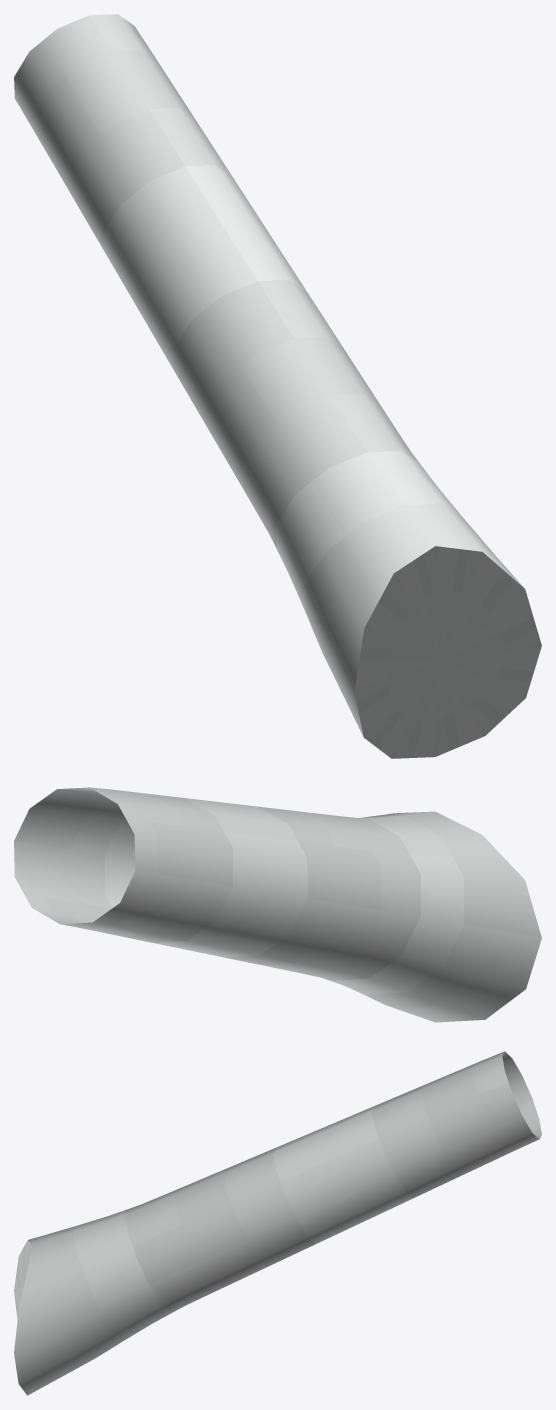
The model's file is luminairearm_caltrans6ftstraightdouble_c0.obj.
3 views of the same model, one above another, from view 1: azimuth 30°, elevation 25°; view 2: azimuth 150°, elevation 25°; view 3: azimuth 270°, elevation 25° (orthographic). The views are drawn at different scales.
Visible parts, largest first — view 1: luminairearm_caltrans6ftstraightdouble_c0; view 2: luminairearm_caltrans6ftstraightdouble_c0; view 3: luminairearm_caltrans6ftstraightdouble_c0.
Boxes of the visible parts, x1=… form: luminairearm_caltrans6ftstraightdouble_c0: x1=14, y1=14, x2=541, y2=758; luminairearm_caltrans6ftstraightdouble_c0: x1=14, y1=787, x2=541, y2=1022; luminairearm_caltrans6ftstraightdouble_c0: x1=14, y1=1051, x2=541, y2=1395.
Bounding box in the file's own units: 0.3375 × 0.8406 × 1.21.
